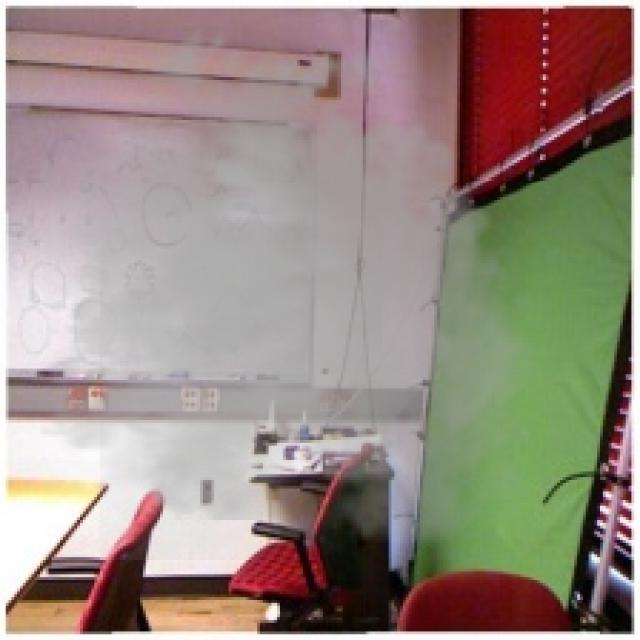smoke: (3, 11, 554, 560)
